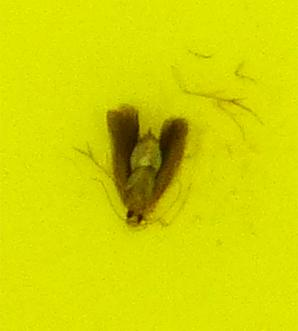Lepidoptera: (100, 100, 198, 231)
